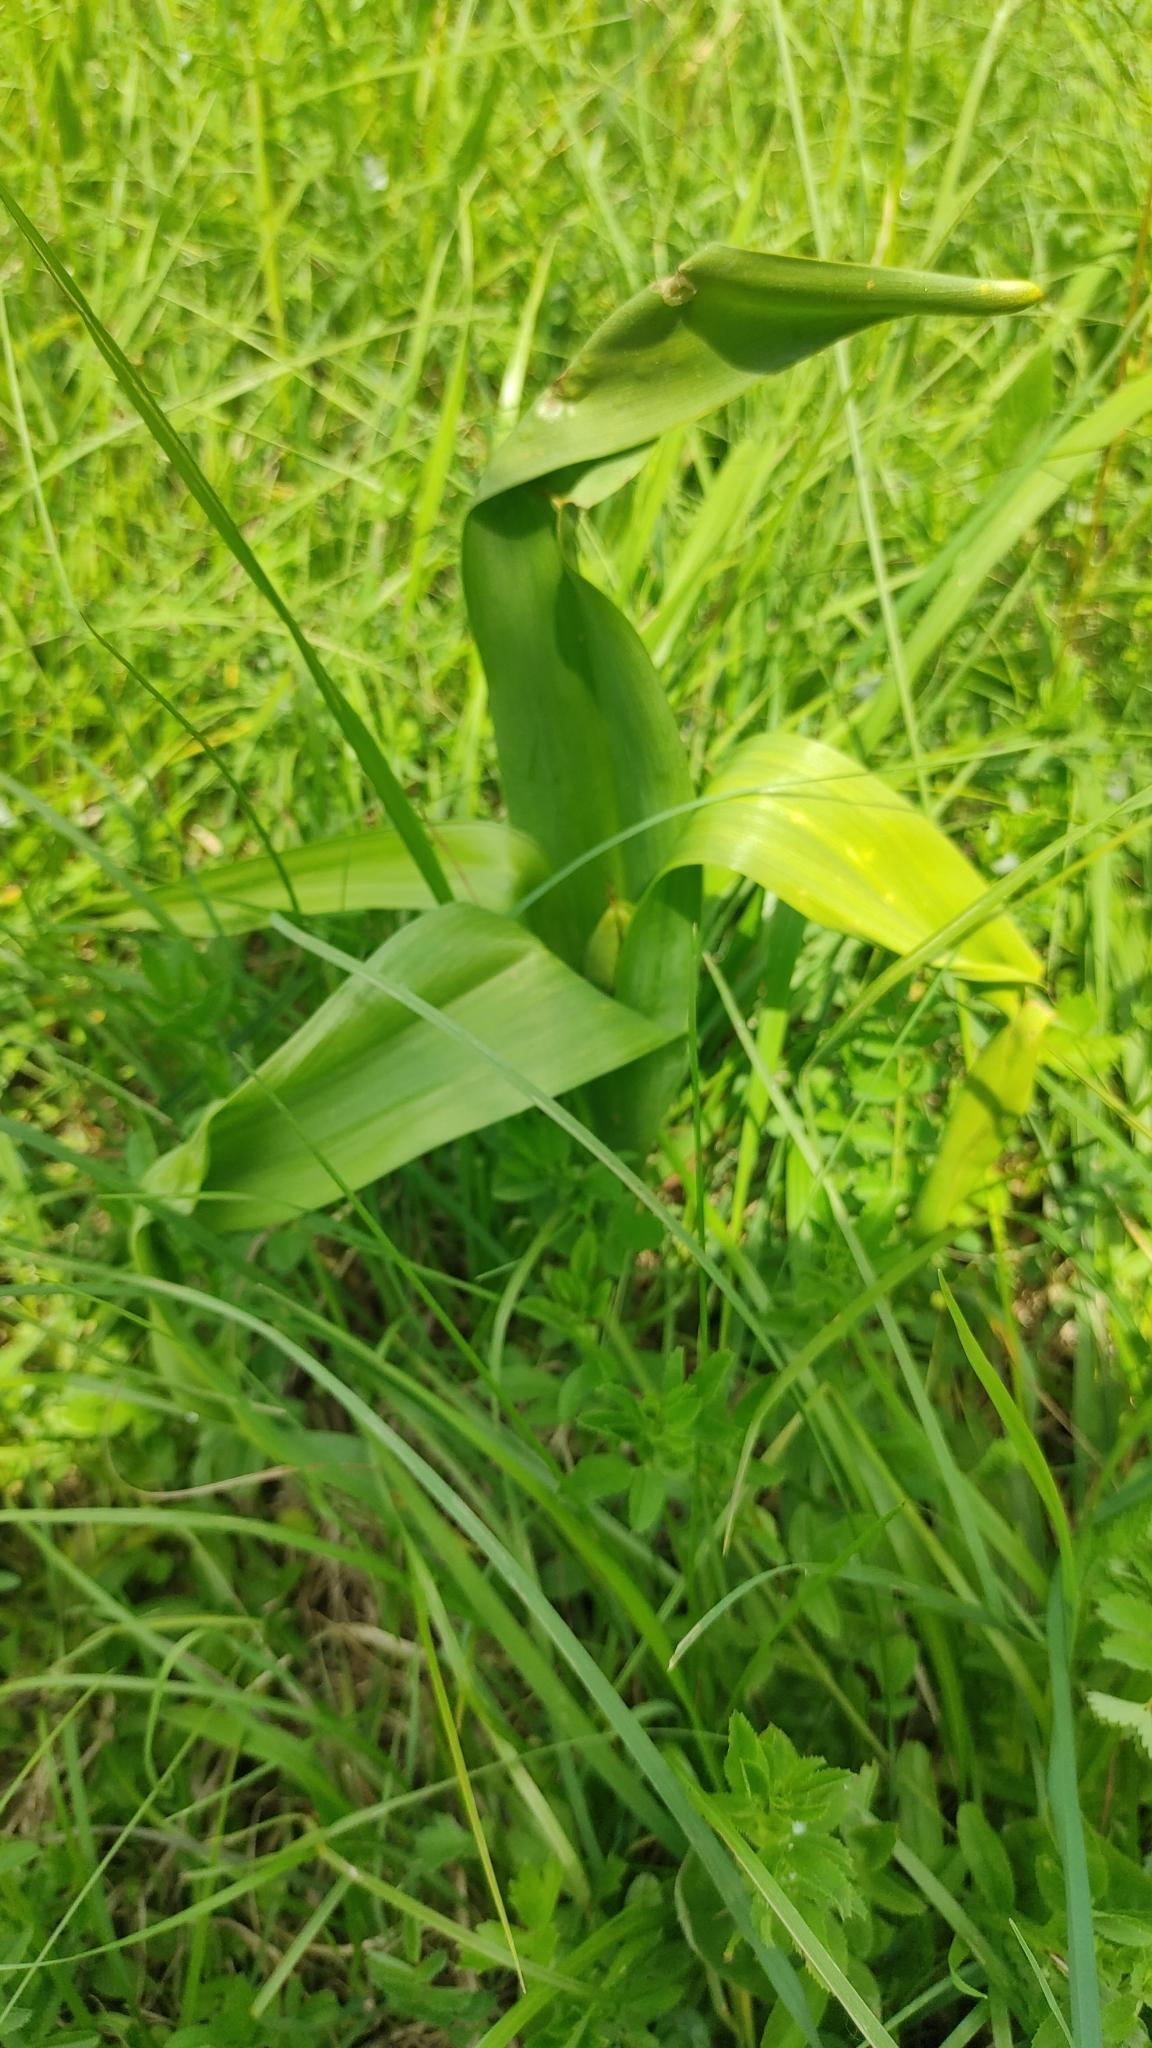Colchicum autumnale L: (122, 236, 1058, 1314)
